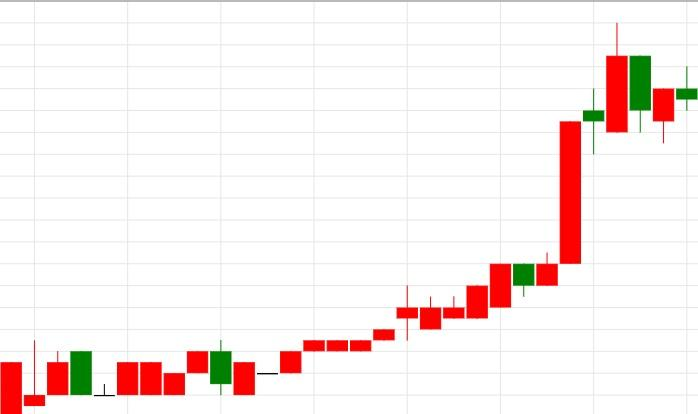bearish_engulfing_fall: (0, 341, 92, 413)
